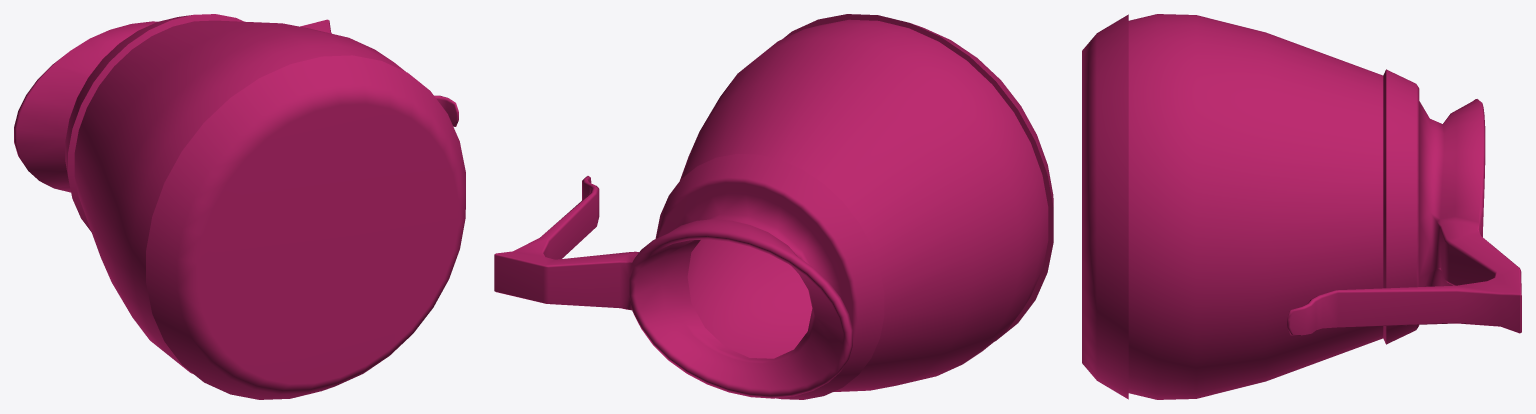
The model's file is SM_Dishes_14.fbx.
3 renders of one model, left to right at view 1: azimuth 30°, elevation 25°; view 2: azimuth 150°, elevation 25°; view 3: azimuth 270°, elevation 25°, orthographic. The views are drawn at different scales.
Parts seen in each view (by area): view 1: SM_Dishes_14; view 2: SM_Dishes_14; view 3: SM_Dishes_14.
Boxes of the visible parts, x1,y1,x2,y2 form: SM_Dishes_14: (14,14,465,399); SM_Dishes_14: (494,14,1053,399); SM_Dishes_14: (1082,14,1521,399).
Bounding box in the file's own units: 21 × 17.24 × 19.71.
